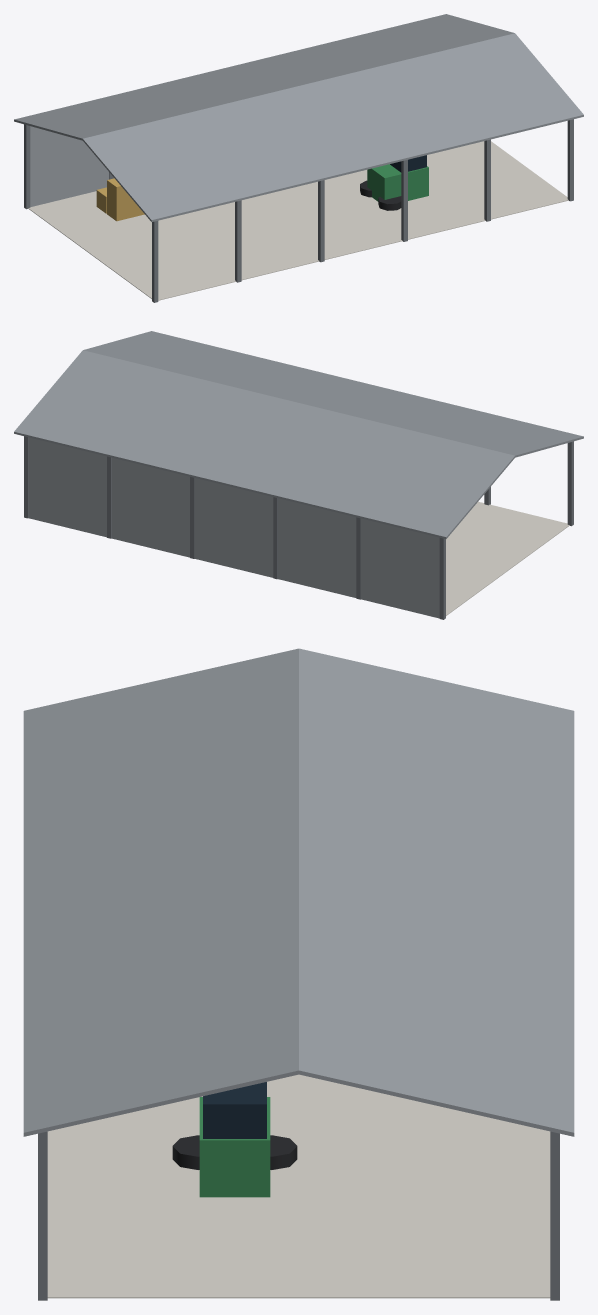
The model's file is hangar_agricole.glb.
3 renders of one model, top to bottom at view 1: azimuth 30°, elevation 25°; view 2: azimuth 150°, elevation 25°; view 3: azimuth 270°, elevation 25°, orthographic. The views are drawn at different scales.
Visible parts, largest first — view 1: hangar_agricole; view 2: hangar_agricole; view 3: hangar_agricole.
Boxes of the visible parts, box(x1,y1,x2,y2) form: hangar_agricole: box(14, 14, 583, 302); hangar_agricole: box(14, 331, 583, 619); hangar_agricole: box(23, 648, 574, 1300).
Size of the model in its own units: 31.2 by 8.14 by 17.2.
Materials: 1 (1 with a texture image).
